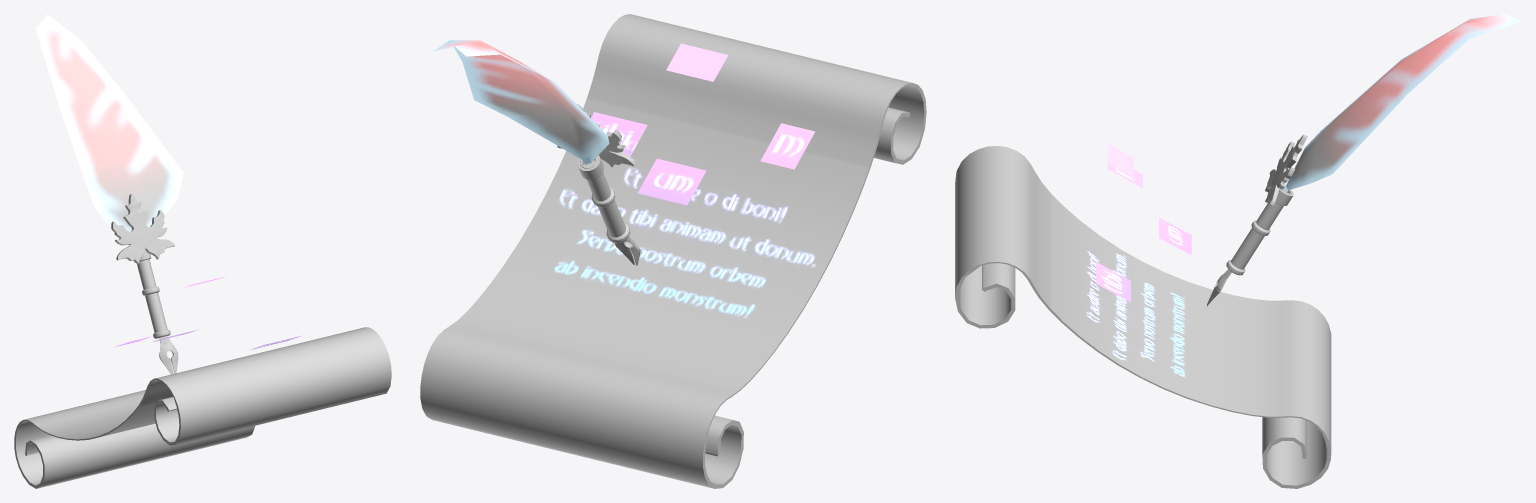
File: yellow-pencil-1.glb
3 renders of one model, left to right at view 1: azimuth 30°, elevation 25°; view 2: azimuth 150°, elevation 25°; view 3: azimuth 270°, elevation 25°, orthographic. The views are drawn at different scales.
Parts seen in each view (by area): view 1: defaultMaterial; view 2: defaultMaterial; view 3: defaultMaterial.
Boxes of the visible parts, x1,y1,x2,y2 form: defaultMaterial: (14,14,391,488); defaultMaterial: (420,14,926,488); defaultMaterial: (955,14,1521,488).
Size of the model in its own units: 0.291 by 0.4896 by 0.6012.
